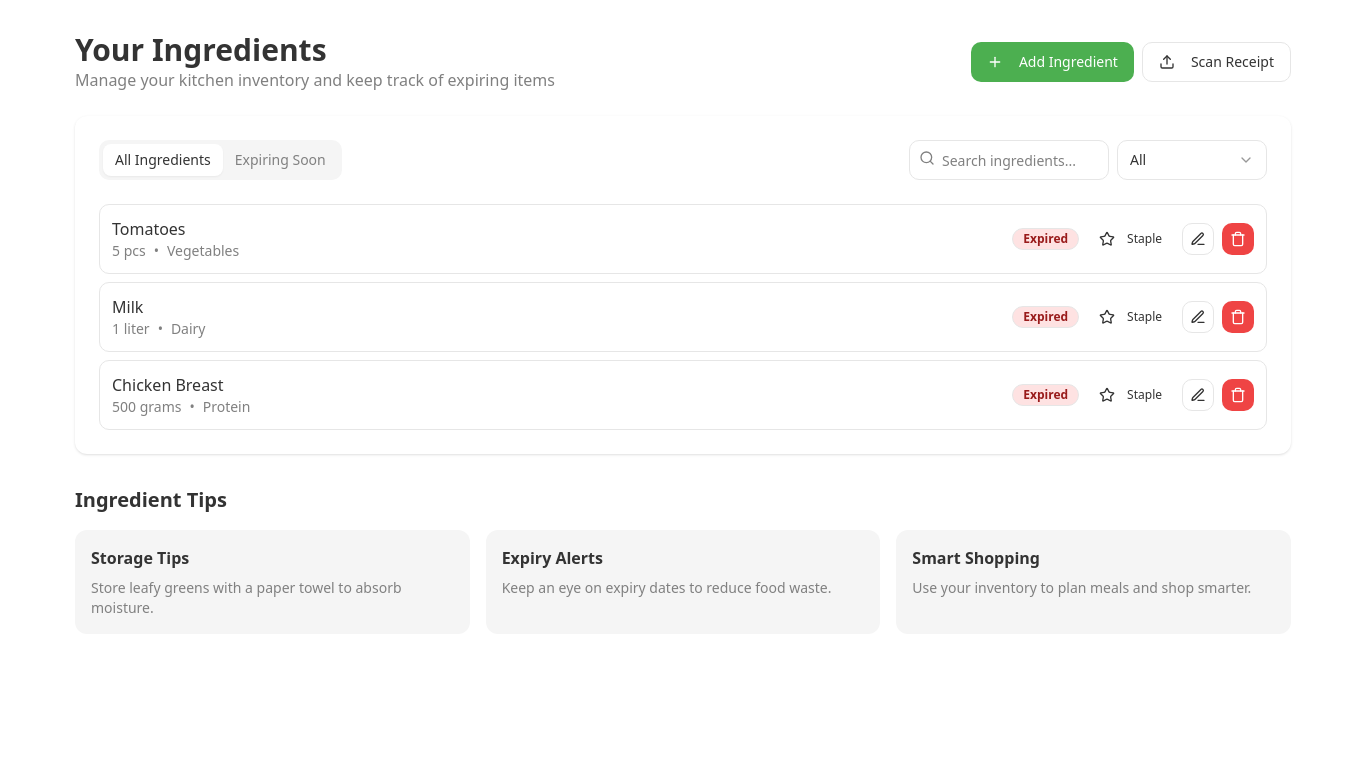
Test: Inventory Page › allows searching inventory items
Expected: the text "Tomatoes" is shown, [112, 218, 186, 240]
Type "milk" into the field with placeholder "Search ingredients..." at [1009, 160], box [909, 140, 1109, 180]
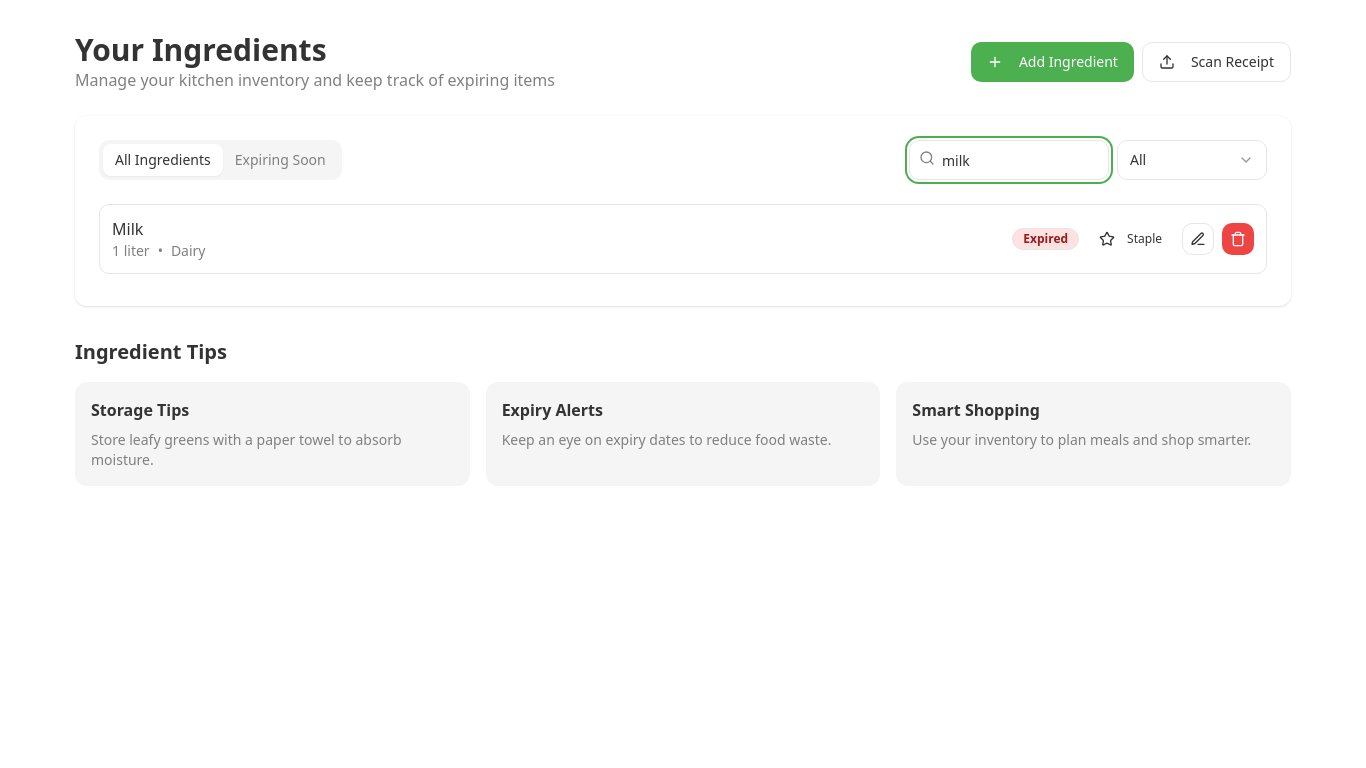
Expected: the text "Milk" is shown, [112, 218, 143, 240]
Expected: the text "Tomatoes" is gone
